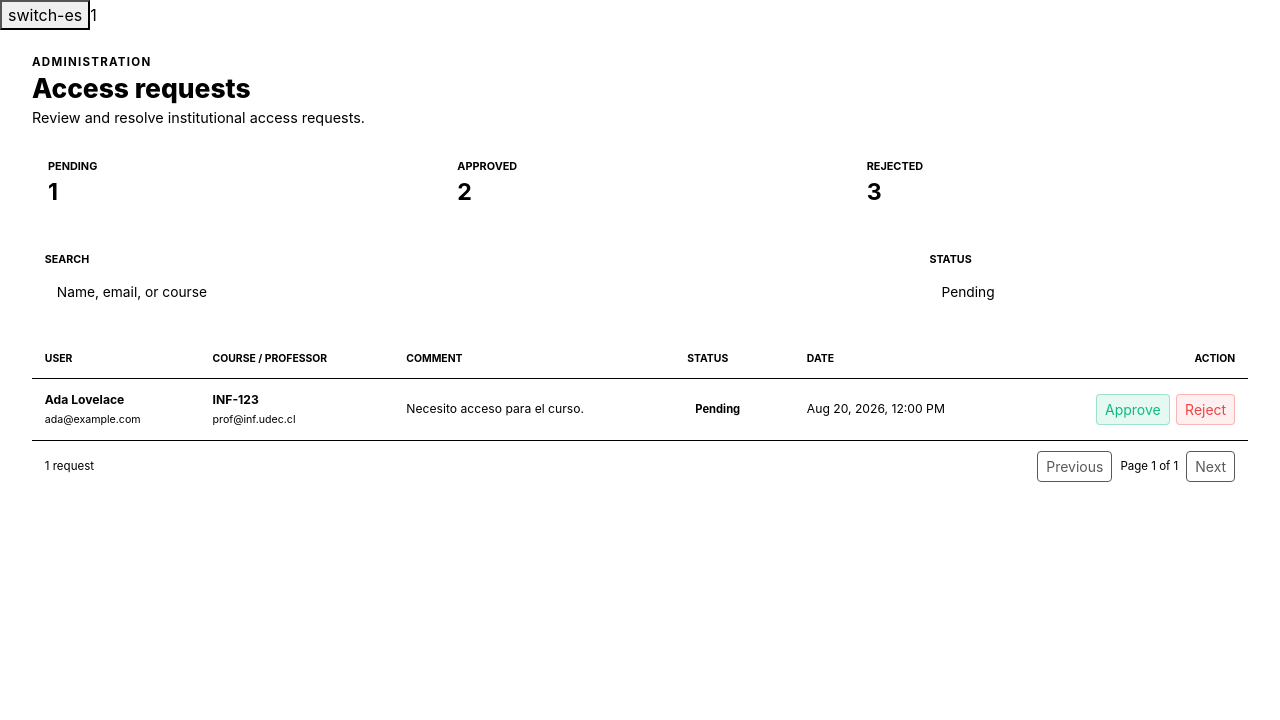
Test case: AdminAccessRequests i18n and decisions › keeps approval successful and warns for email status DISABLED
Expected: the text "ada@example.com" is shown, [45,413,141,426]
Click the button "Approve" at (1133, 410), box [1096,394,1170,425]
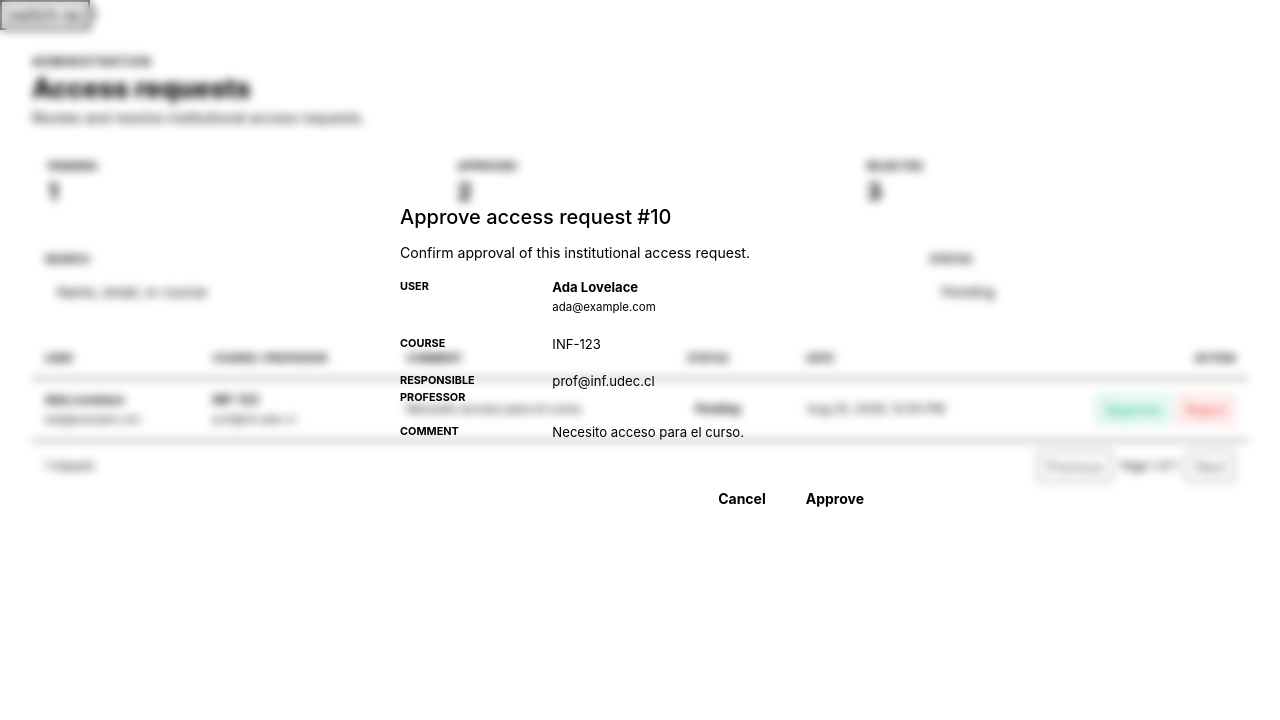
Click the button "Approve" at (835, 499), box [790,479,880,519]
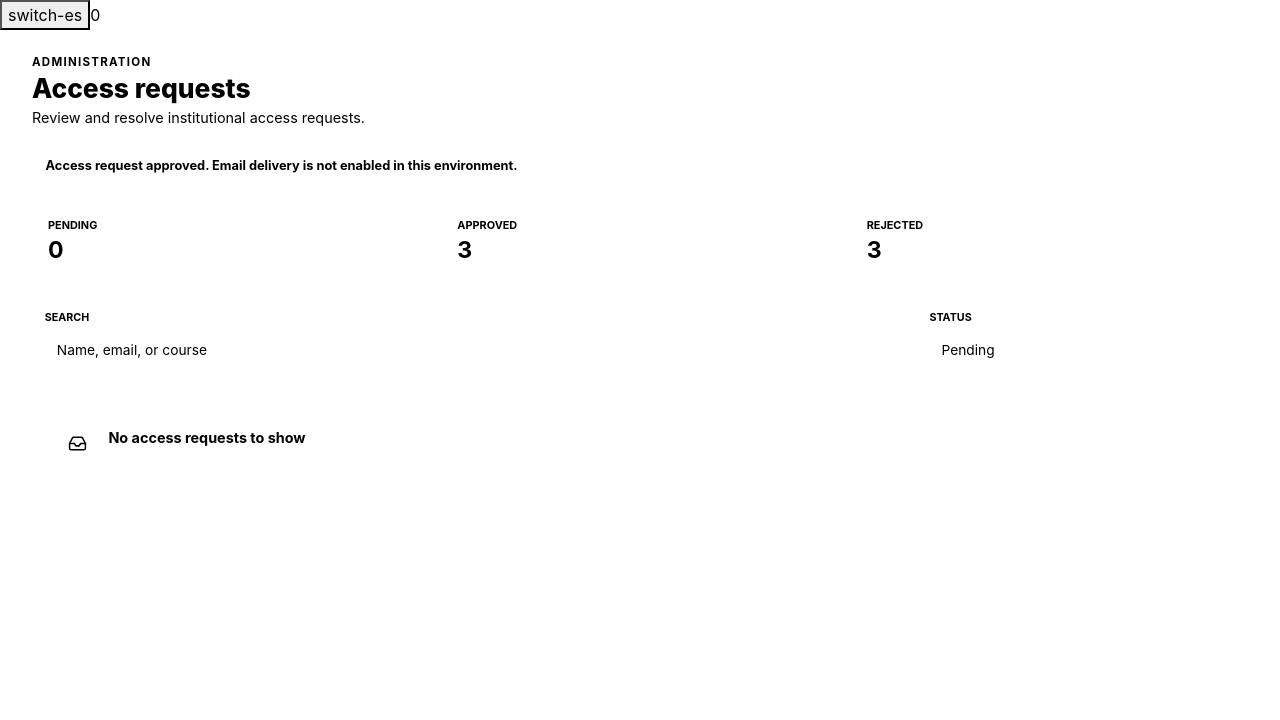
Expected: the message reads "Access request approved. Email delivery is not enabled in this environment.", [46,158,518,173]
